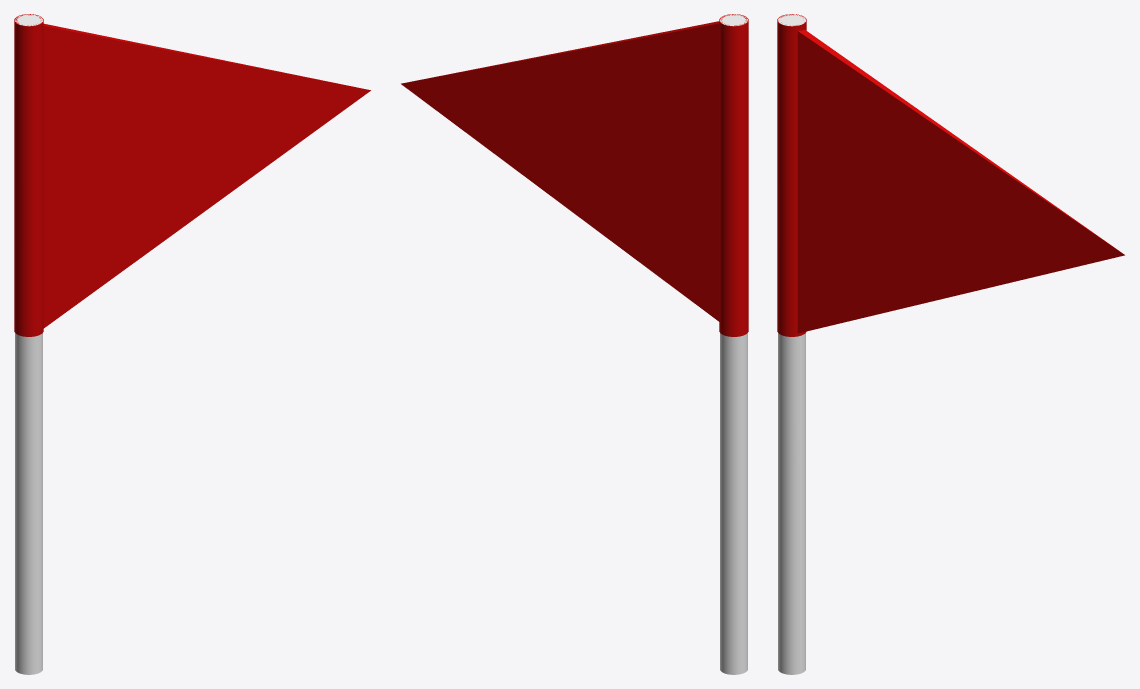
File: Flag.fbx
3 renders of one model, left to right at view 1: azimuth 30°, elevation 25°; view 2: azimuth 150°, elevation 25°; view 3: azimuth 330°, elevation 25°, orthographic.
Visible parts, largest first — view 1: 旗子面, 棍子; view 2: 旗子面, 棍子; view 3: 旗子面, 棍子.
Part boxes in pixels (x1=…): 旗子面: x1=14, y1=14, x2=370, y2=336; 棍子: x1=15, y1=14, x2=42, y2=674; 旗子面: x1=401, y1=14, x2=748, y2=336; 棍子: x1=720, y1=14, x2=747, y2=674; 旗子面: x1=777, y1=14, x2=1124, y2=336; 棍子: x1=778, y1=14, x2=805, y2=674.
Bounding box in the file's own units: 25.25 × 44.61 × 1.82.
